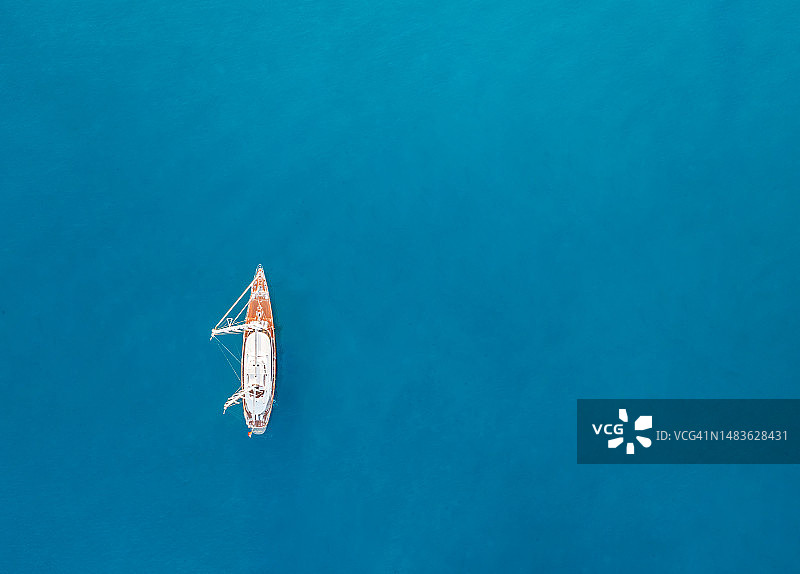ship: (204, 244, 298, 447)
